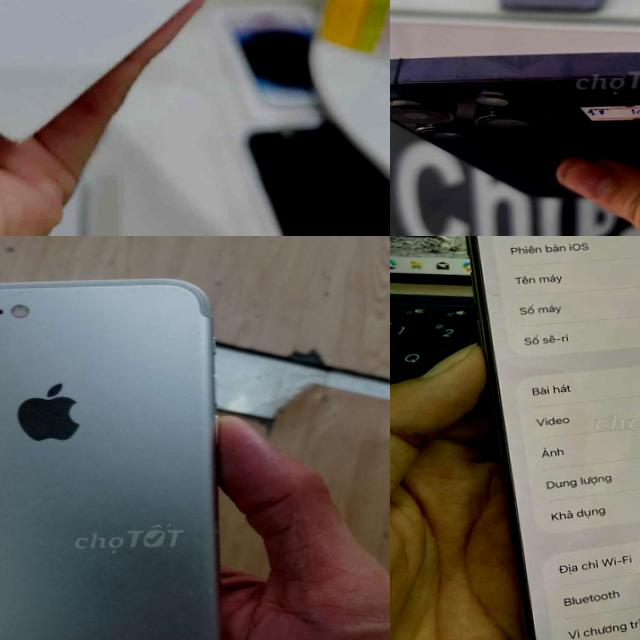scratch: (173, 556, 220, 620), (118, 278, 190, 304), (190, 330, 228, 352), (123, 616, 152, 640), (0, 284, 37, 300)
